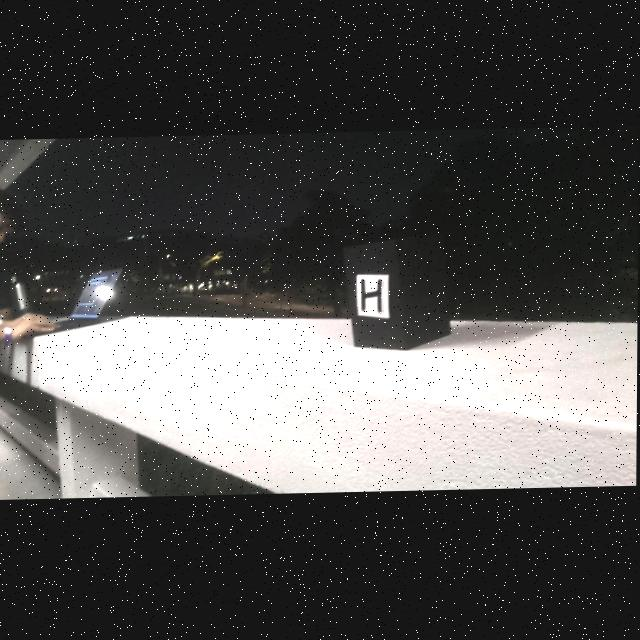H: (362, 281, 383, 315)
